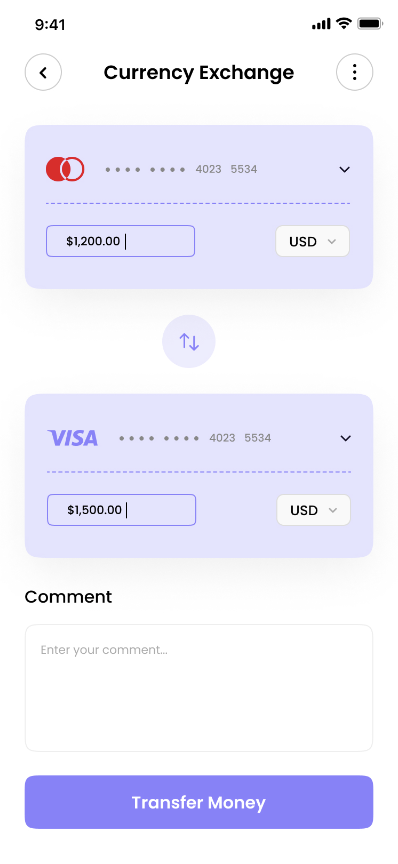AppBar: (1, 34, 398, 95)
